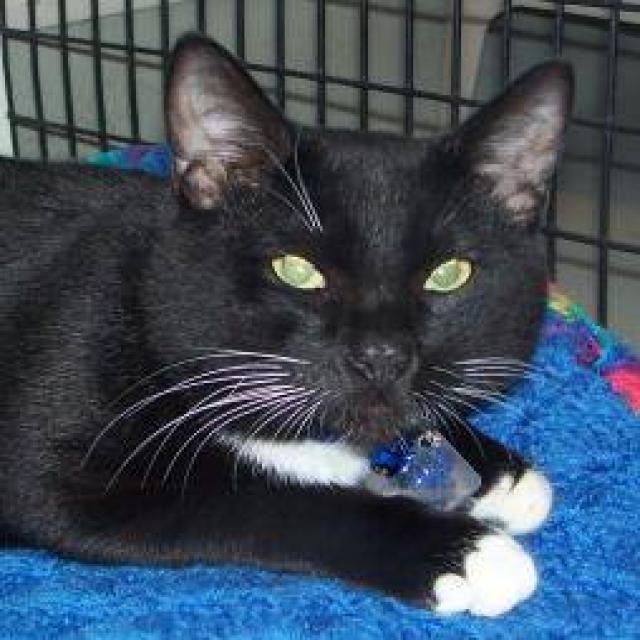cat: (0, 28, 574, 618)
